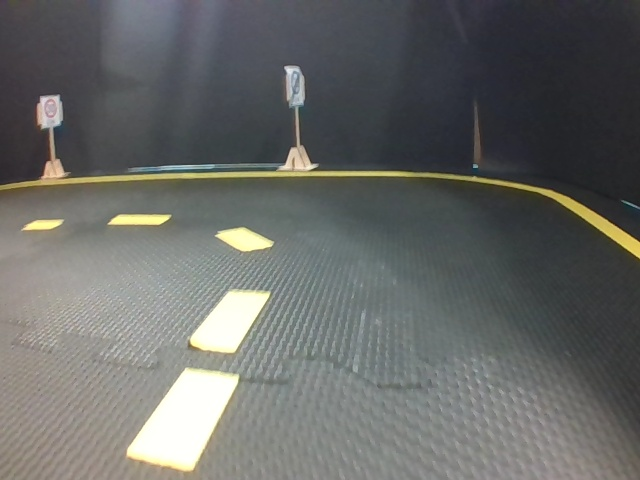30: (40, 94, 59, 128)
no30: (284, 65, 303, 109)
